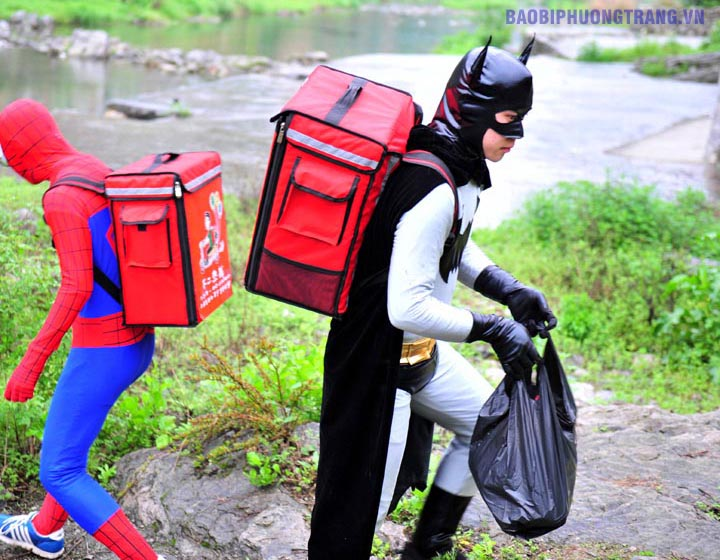plastic bag: (470, 328, 583, 540)
